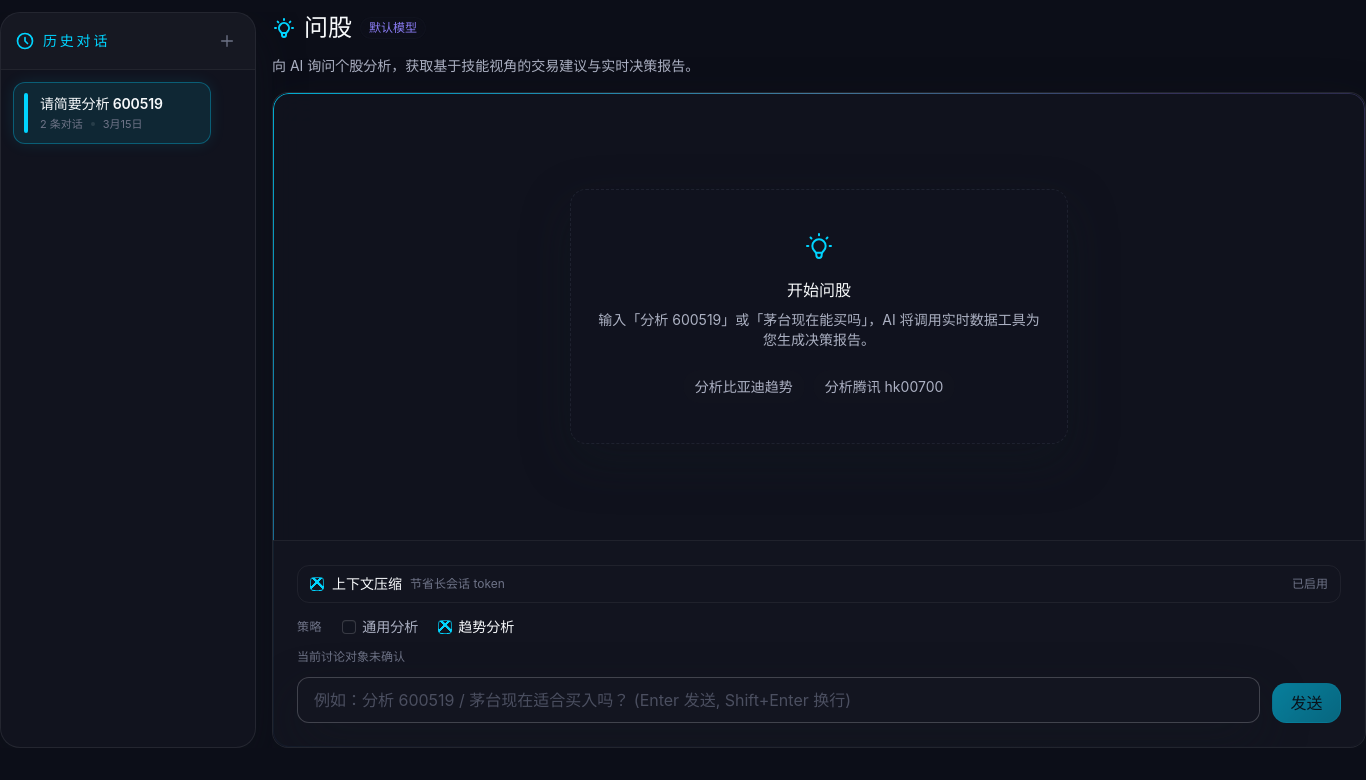
Test: ChatPage › rolls back the context compression switch when saving fails
Click the checkbox labelled "上下文压缩 节省长会话 token" at (317, 584), box x1=310 y1=577 x2=324 y2=591
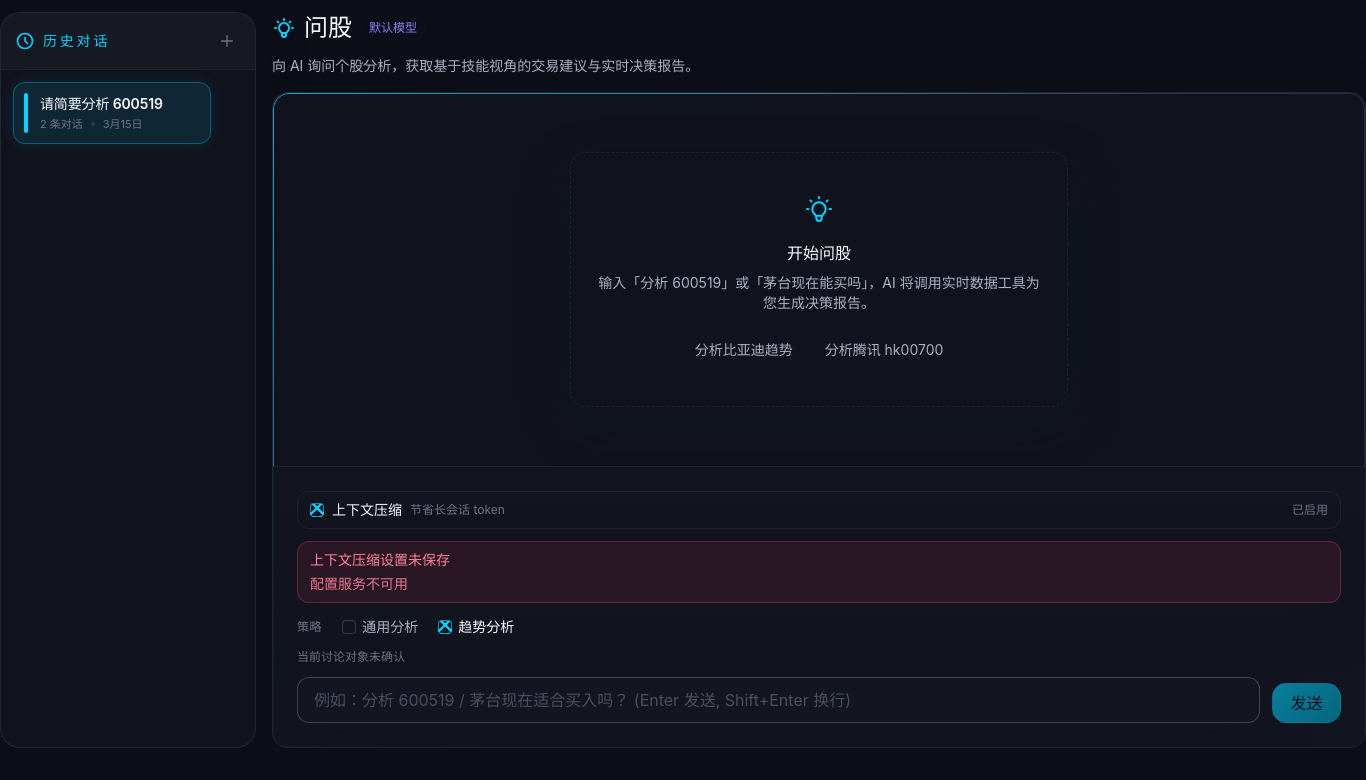
Expected: the checkbox labelled "上下文压缩 节省长会话 token" is checked, x1=310 y1=503 x2=324 y2=517
Now the text "配置服务不可用" is shown, box x1=310 y1=575 x2=408 y2=592
